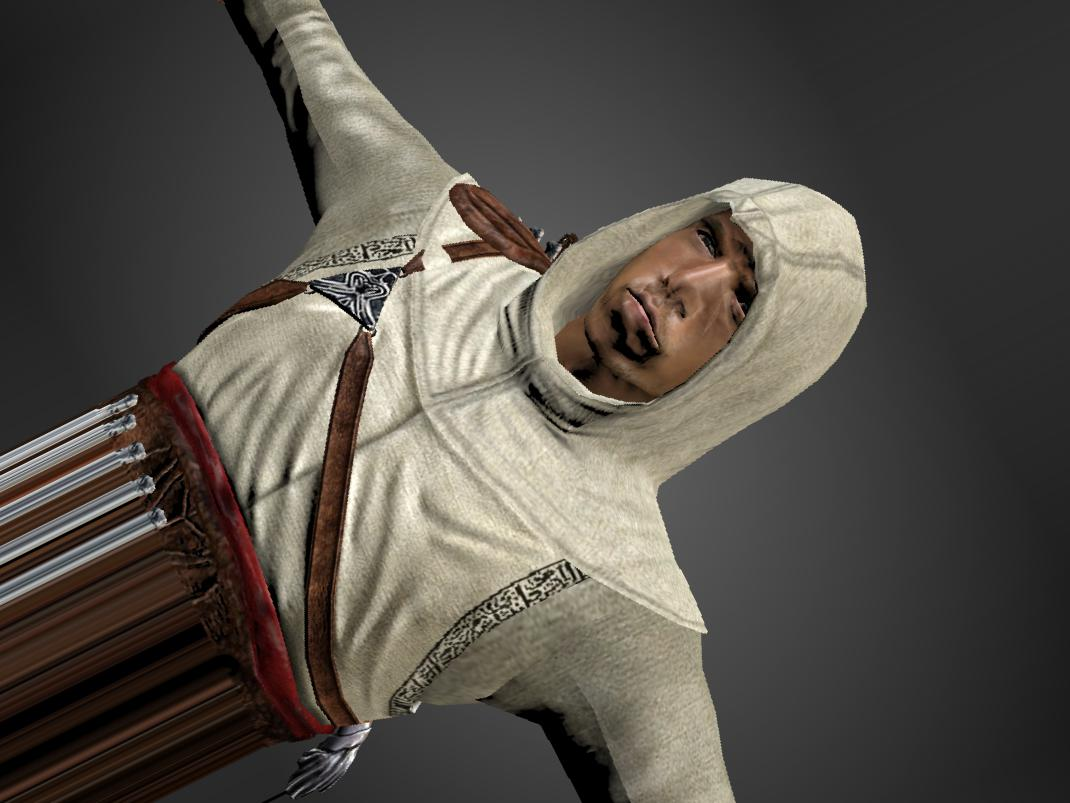clip: (408, 232, 458, 281)
